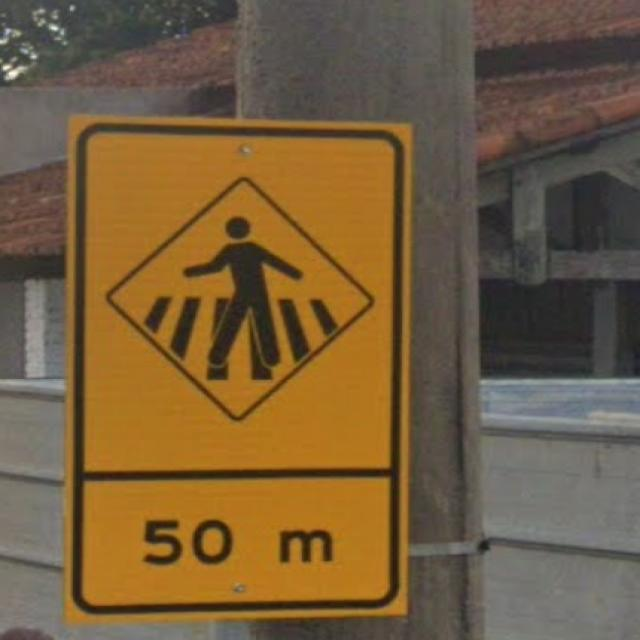pedestrian crossing: (52, 102, 436, 629)
